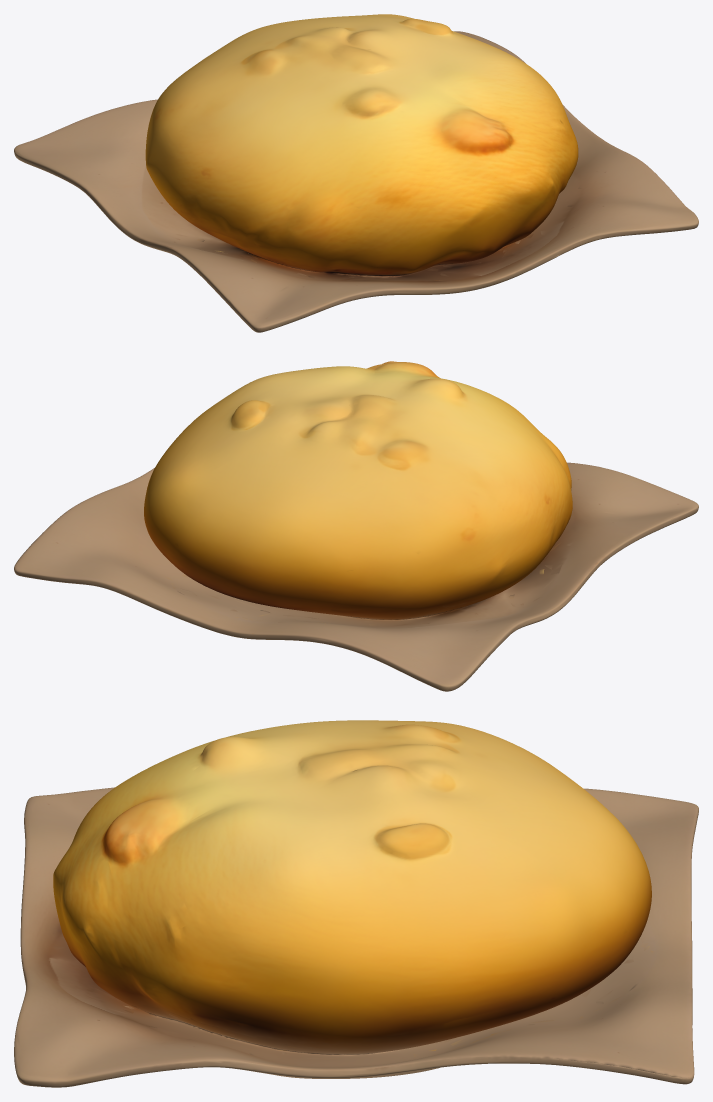
File: Arepa de Huevo.fbx
3 renders of one model, top to bottom at view 1: azimuth 30°, elevation 25°; view 2: azimuth 150°, elevation 25°; view 3: azimuth 270°, elevation 25°, orthographic. The views are drawn at different scales.
Parts seen in each view (by area): view 1: Mesh_0; view 2: Mesh_0; view 3: Mesh_0.
Boxes of the visible parts, left/top/right/bottom form: Mesh_0: left=14, top=14, right=698, bottom=332; Mesh_0: left=14, top=361, right=698, bottom=691; Mesh_0: left=14, top=720, right=698, bottom=1087.
Size of the model in its own units: 85.81 by 29.87 by 84.46.
Materials: 1 (1 with a texture image).
